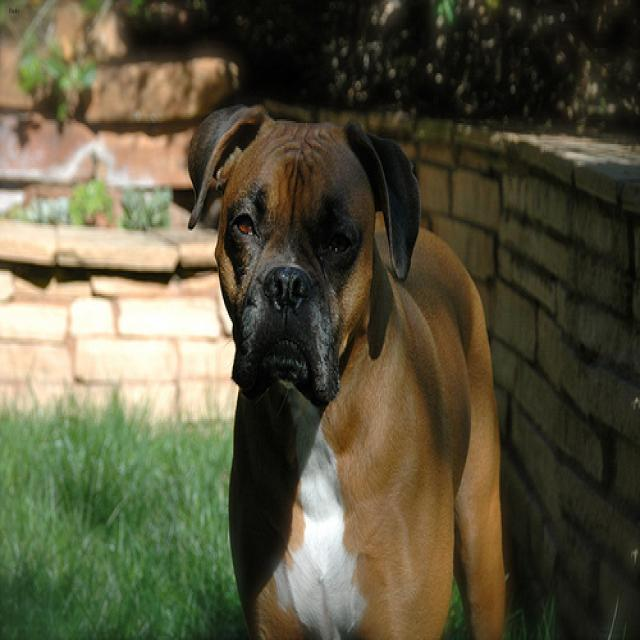dog-boxer: (177, 98, 520, 636)
